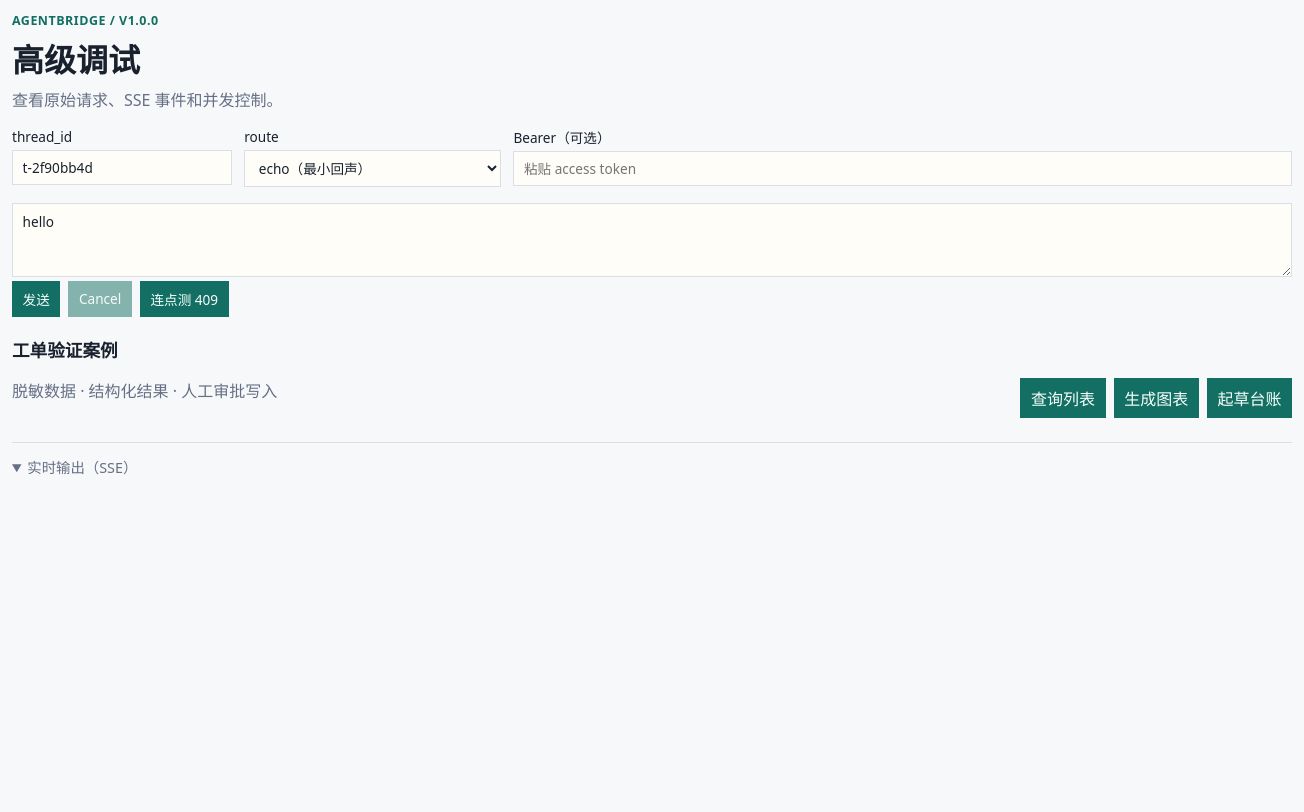
DebugPage › parses terminal SSE events into the timeline
What coordinates should you click on to do the following:
click the button "发送"
I would click on:
 (36, 299)
Its box is [12,281,60,317].
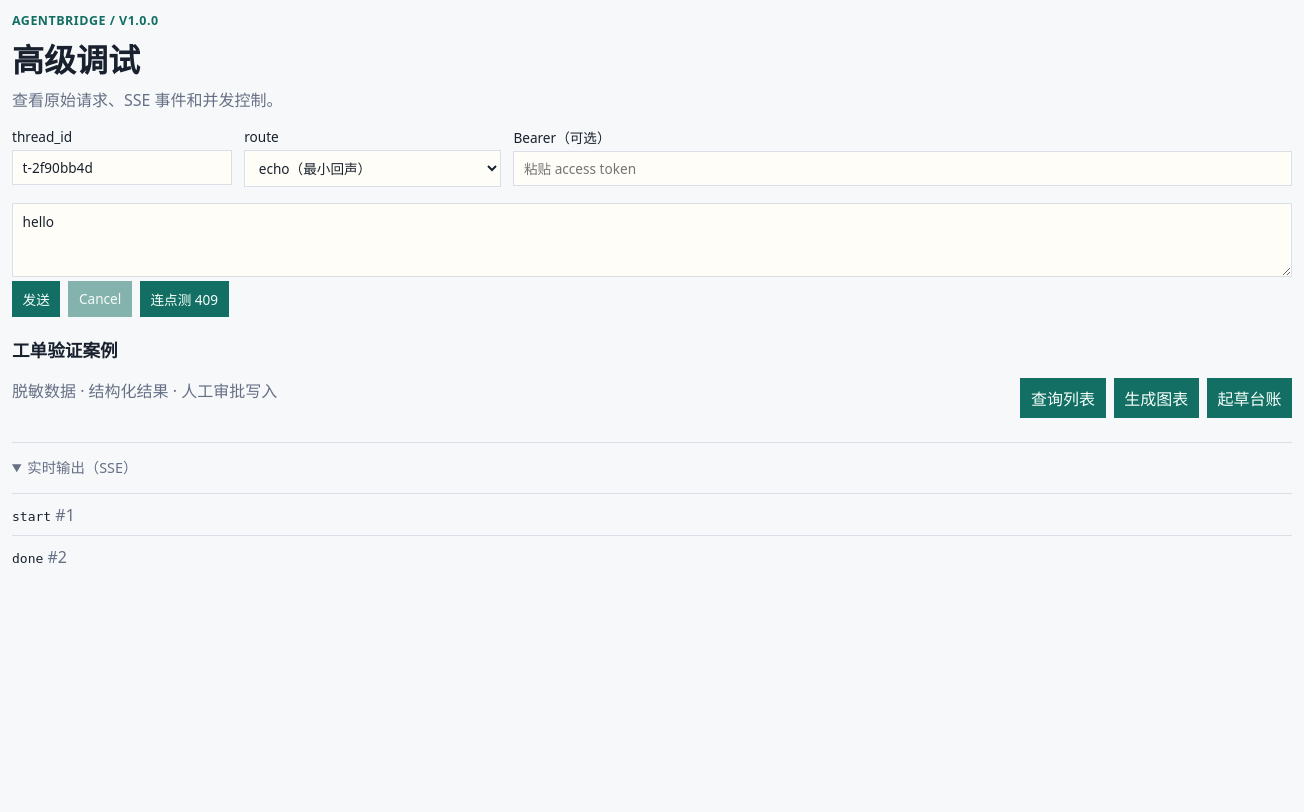
Result: the text "start" is shown at [12,508,51,524]
Result: the text "done" is shown at [12,551,43,566]
